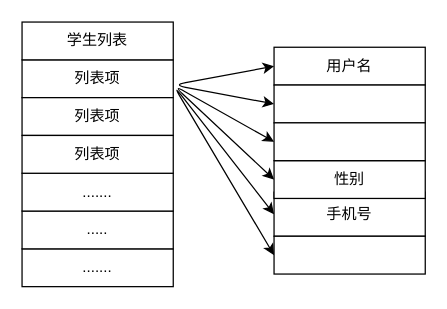
The diagram is 447 pixels wide and 309 high, and some of its shapes have lost their labels. The shapes that lost their labels are listed below. From the top down, each one's centre as x and y in pixels, then its label:
(349,103): 真实姓名
(349,141): 年级
(349,254): 启用状态
